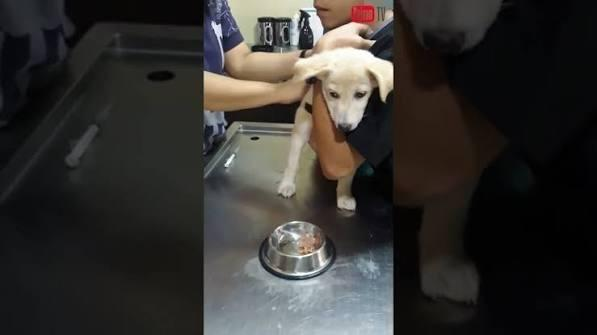puppy-dog: (279, 50, 397, 217)
